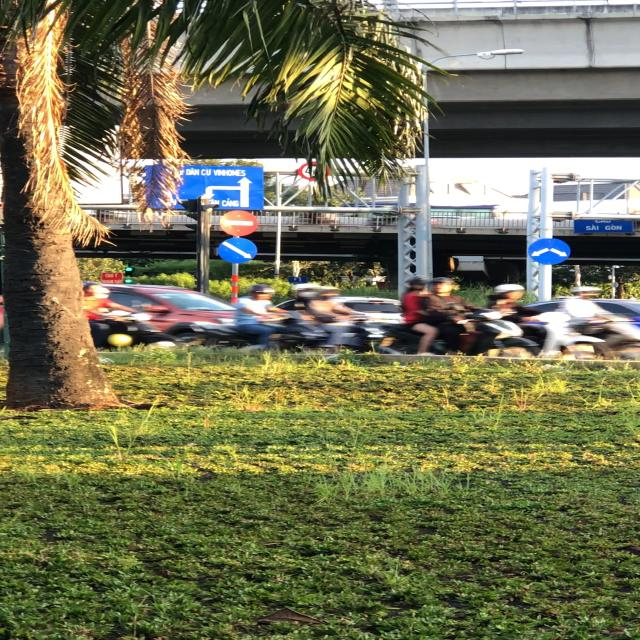Bien bao cam di nguoc chieu: (217, 207, 264, 238)
Bien bao huong phai di vong chuong ngai vat: (210, 235, 266, 267), (525, 238, 575, 268)
